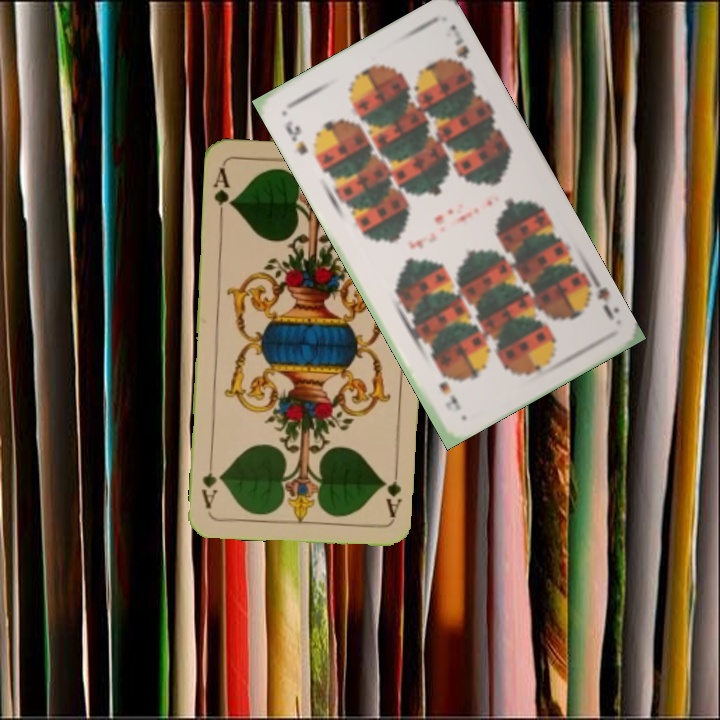GA: (210, 163, 236, 222), (381, 462, 404, 521)
S9: (578, 270, 621, 323), (281, 116, 311, 158)
